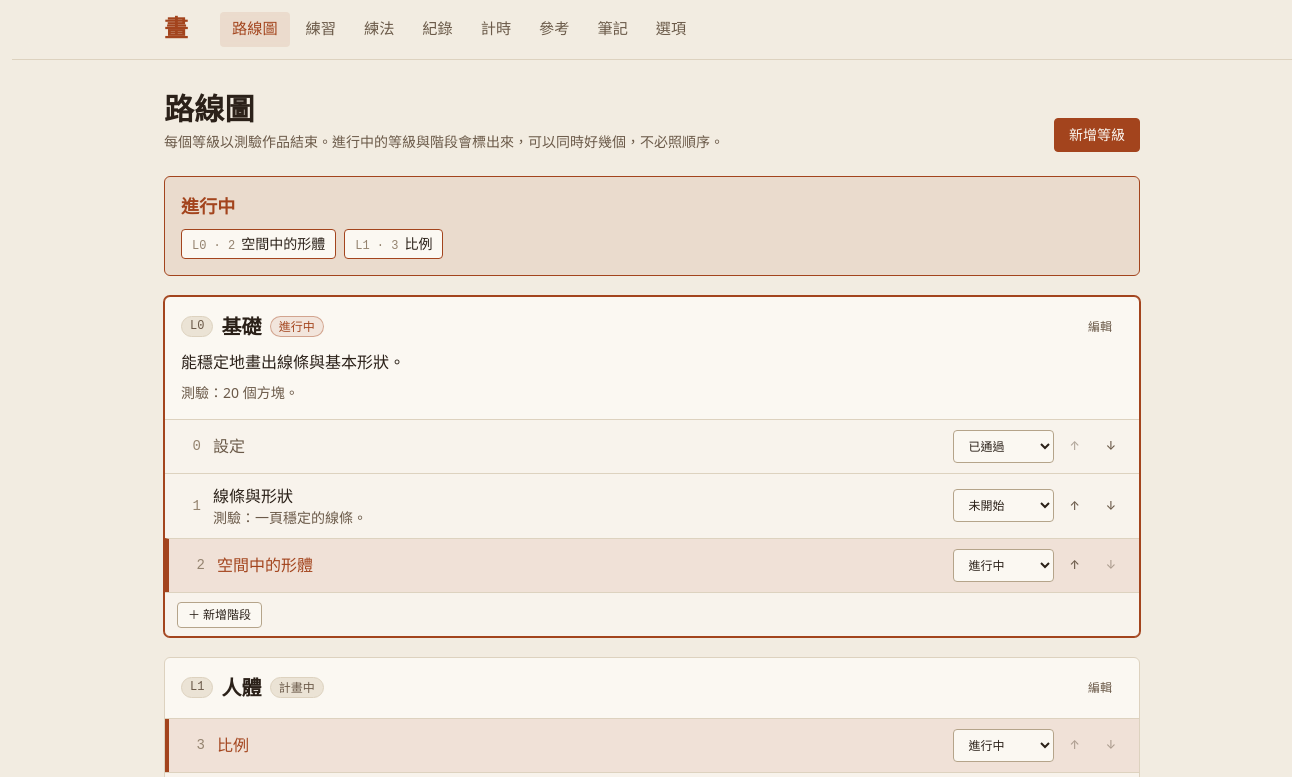
Test: the roadmap › shows a refused status change on its row
Select "已通過" in the dropdown named "「比例」的狀態": (1004, 745) left=953, top=729, right=1054, bottom=762
(page scrolled)
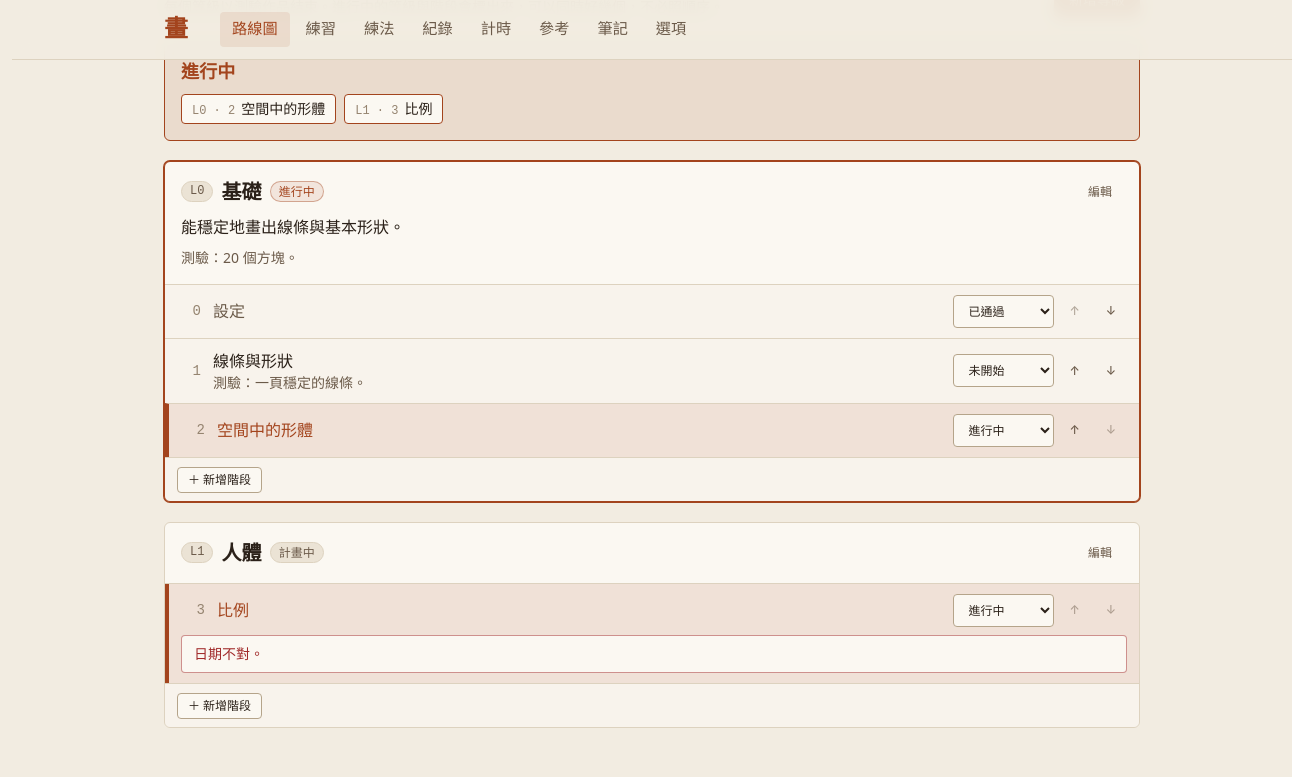
Expected: the text "日期不對。" is shown, left=181, top=635, right=1127, bottom=673
